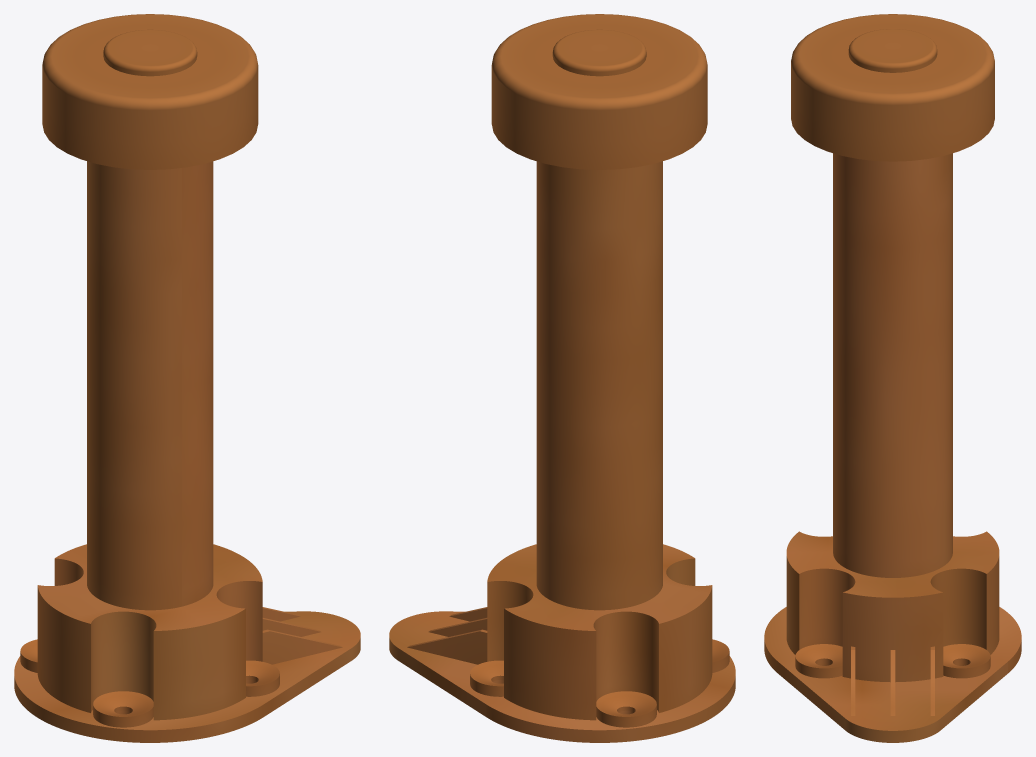
The model's file is opory_150_1791536190765.glb.
The picture shows the model from 3 angles, left to right: view 1: azimuth 30°, elevation 25°; view 2: azimuth 150°, elevation 25°; view 3: azimuth 270°, elevation 25°; orthographic projection. The views are drawn at different scales.
Parts seen in each view (by area): view 1: Опора 150; view 2: Опора 150; view 3: Опора 150.
Boxes of the visible parts, x1,y1,x2,y2 form: Опора 150: (14,14,360,742); Опора 150: (389,14,735,742); Опора 150: (764,14,1021,742).
Size of the model in its own units: 0.079 by 0.15 by 0.058.
Materials: 1 (1 with a texture image).
